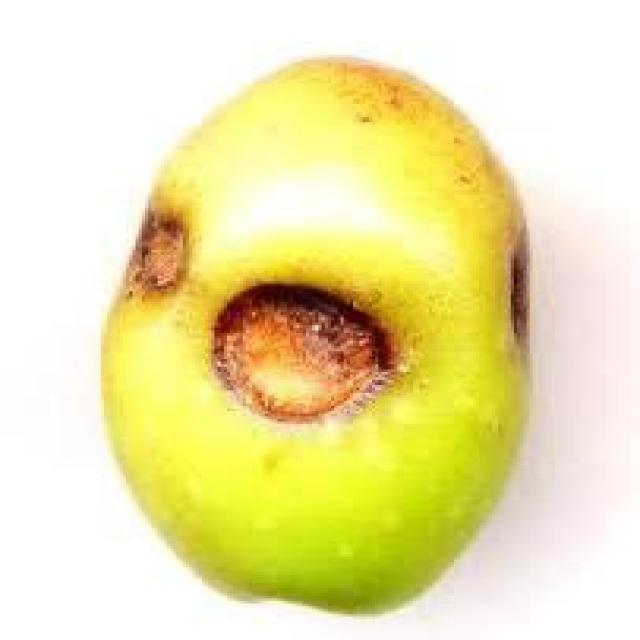Anthracnose: (104, 57, 523, 588)
